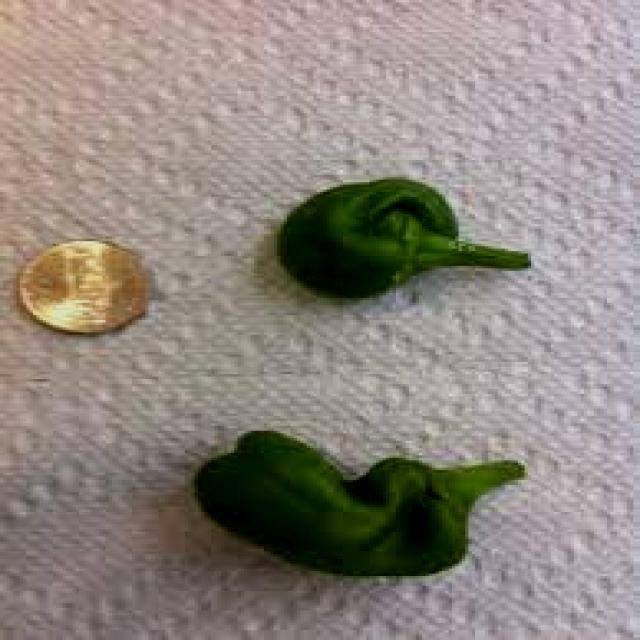bell_pepper: (177, 416, 539, 590), (257, 167, 563, 323)
